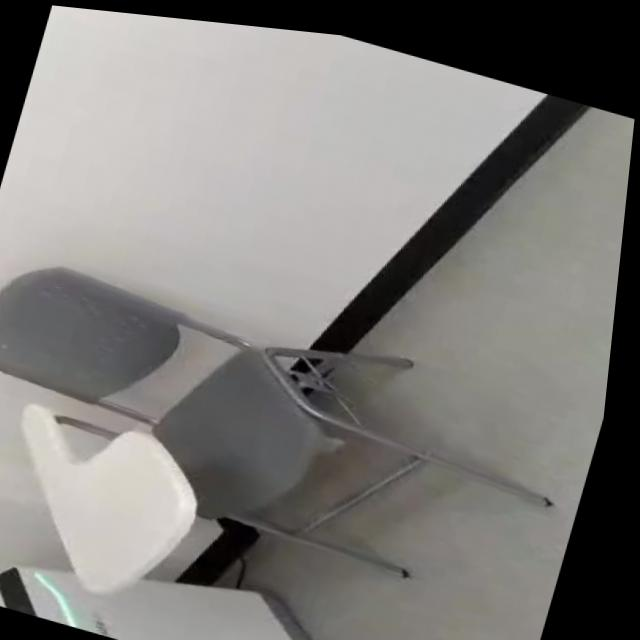chair: (0, 185, 617, 640)
